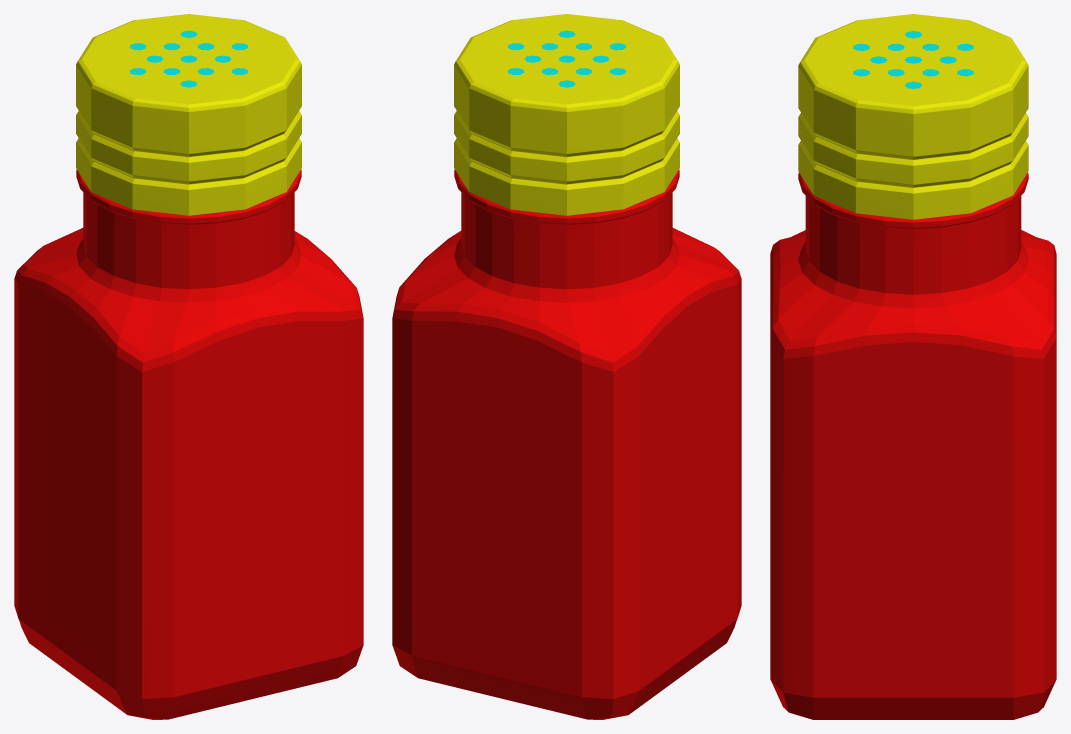
The model's file is thorkea_salt_pepper_shakers_grp.fbx.
3 views of the same model, side by side, from view 1: azimuth 30°, elevation 25°; view 2: azimuth 150°, elevation 25°; view 3: azimuth 270°, elevation 25° (orthographic).
Parts seen in each view (by area): view 1: thorkea_salt_pepper_shaker_bnyd; view 2: thorkea_salt_pepper_shaker_bnyd; view 3: thorkea_salt_pepper_shaker_bnyd.
Part boxes in pixels (box(x1,y1,x2,y2)): thorkea_salt_pepper_shaker_bnyd: box(14, 14, 363, 719); thorkea_salt_pepper_shaker_bnyd: box(392, 14, 741, 719); thorkea_salt_pepper_shaker_bnyd: box(770, 14, 1056, 719).
Size of the model in its own units: 4 by 9.51 by 4.
